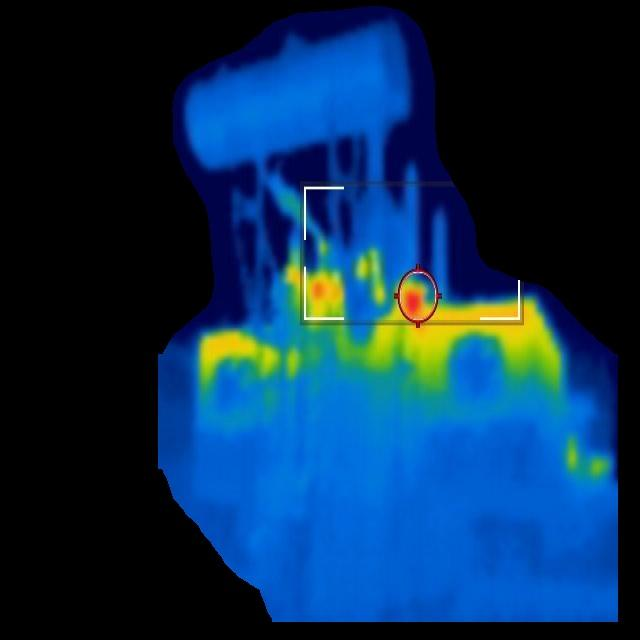Loose Joint F: (290, 271, 335, 313), (398, 282, 423, 317)
Transformer Overload: (202, 300, 547, 388)
